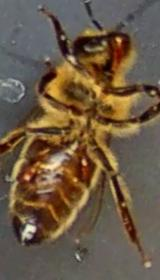varroa_mite: (68, 144, 97, 184), (13, 160, 44, 186)
